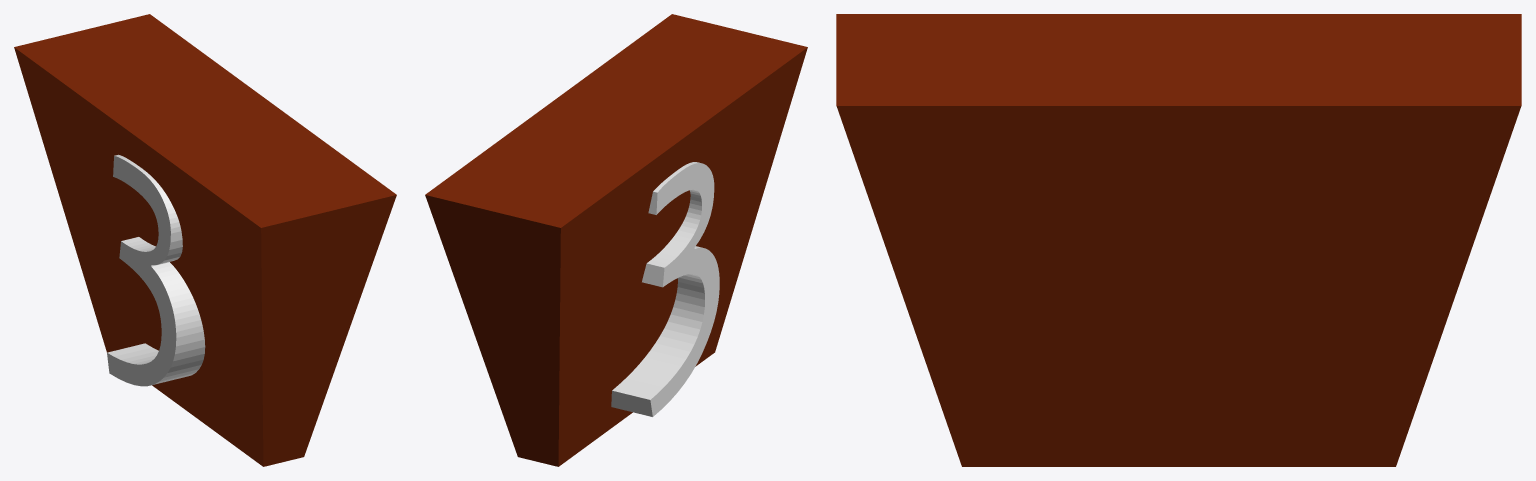
Rendered from Tag3.FBX.
3 views of the same model, side by side, from view 1: azimuth 30°, elevation 25°; view 2: azimuth 150°, elevation 25°; view 3: azimuth 270°, elevation 25° (orthographic). The views are drawn at different scales.
Parts seen in each view (by area): view 1: Box003, Text003; view 2: Box003, Text003; view 3: Box003.
Boxes of the visible parts, box(x1,y1,x2,y2) form: Box003: box(14, 14, 396, 466); Text003: box(107, 154, 205, 386); Box003: box(425, 14, 807, 466); Text003: box(611, 162, 719, 416); Box003: box(836, 14, 1521, 466).
Bounding box in the file's own units: 50.11 × 100 × 158.
